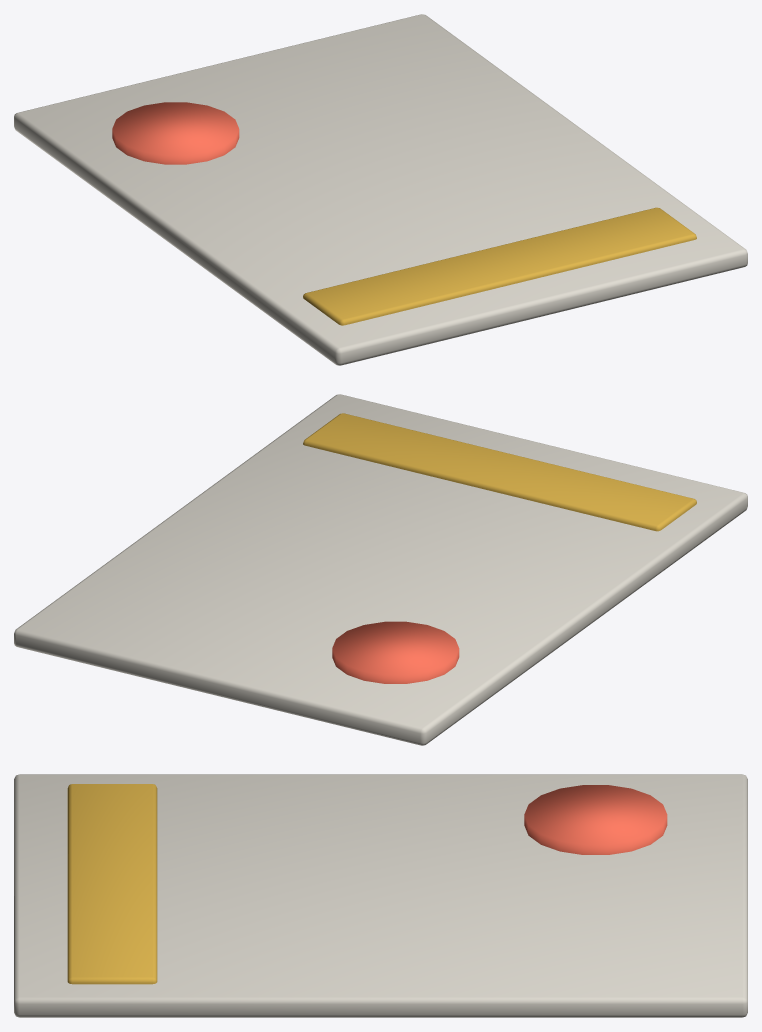
File: Doc_ApprovalPaper.fbx
The picture shows the model from 3 angles, top to bottom: view 1: azimuth 30°, elevation 25°; view 2: azimuth 150°, elevation 25°; view 3: azimuth 270°, elevation 25°; orthographic projection. The views are drawn at different scales.
Parts seen in each view (by area): view 1: Approval_Sheet, Approval_TopBanner, Approval_SealMedallion; view 2: Approval_Sheet, Approval_TopBanner, Approval_SealMedallion; view 3: Approval_Sheet, Approval_TopBanner, Approval_SealMedallion.
Boxes of the visible parts, x1,y1,x2,y2 form: Approval_Sheet: (14, 14, 747, 365); Approval_TopBanner: (303, 207, 696, 325); Approval_SealMedallion: (112, 102, 239, 164); Approval_Sheet: (14, 394, 747, 745); Approval_TopBanner: (303, 413, 696, 531); Approval_SealMedallion: (332, 621, 459, 683); Approval_Sheet: (14, 774, 747, 1017); Approval_TopBanner: (67, 784, 157, 984); Approval_SealMedallion: (524, 785, 667, 854).
Size of the model in its own units: 6 by 0.385 by 8.2.
